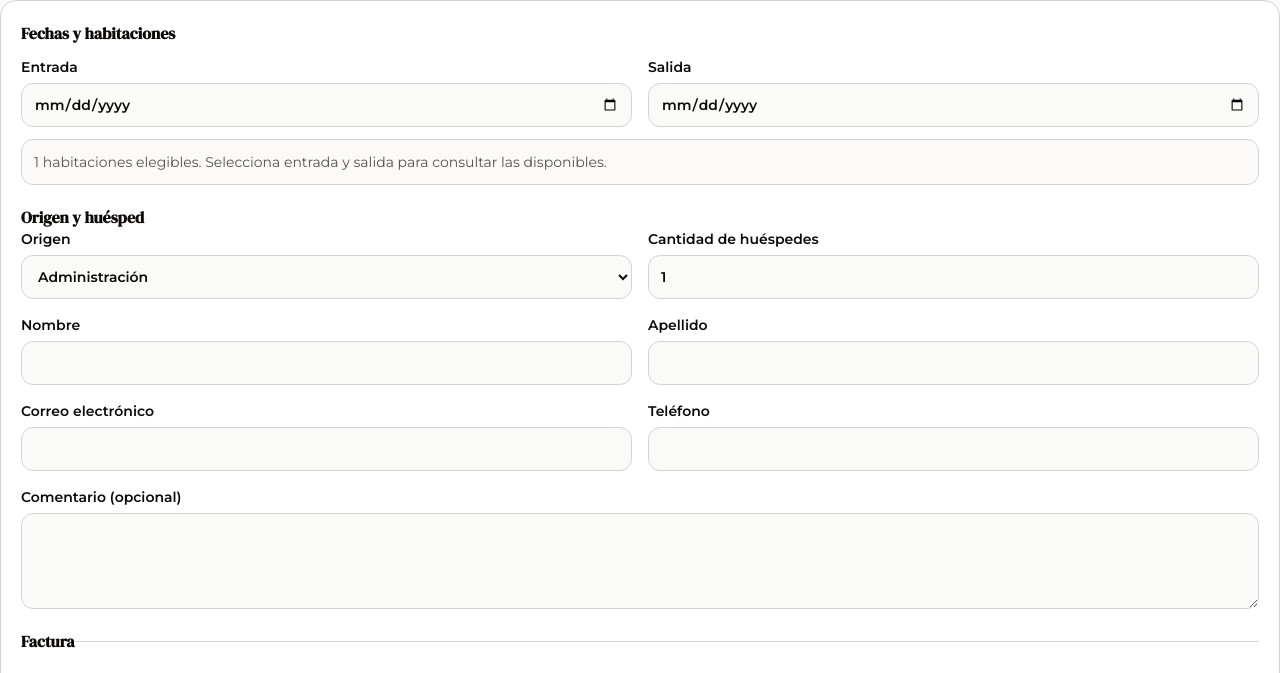
Scenario: nightly value for an external channel (task 7.1) › shows the field only for an origin that admits a hand-set value
Step 1. Type "2033-02-10" into the date field labelled "Entrada" → (326, 105), box [21,83,632,127]
Step 2. Type "2033-02-12" into the date field labelled "Salida" → (954, 105), box [648,83,1259,127]
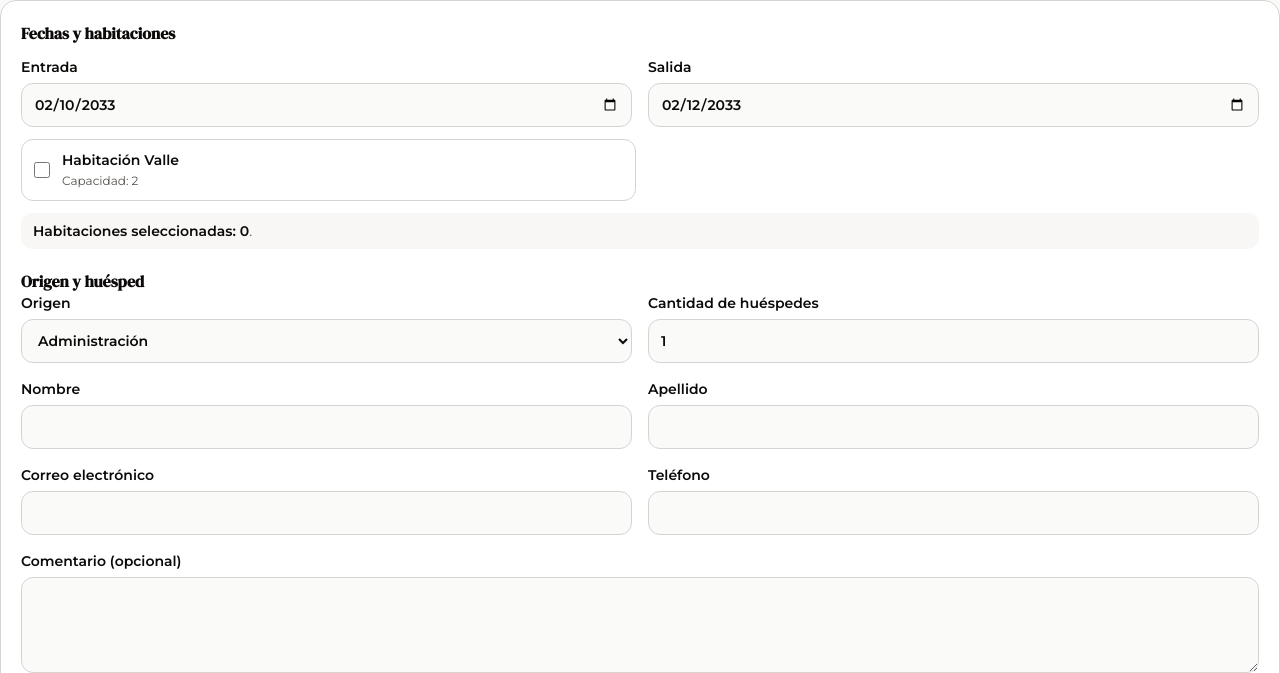
Expected: the checkbox labelled "Habitación Valle Capacidad: 2" is shown
Step 3. Click the checkbox labelled "Habitación Valle Capacidad: 2" → (42, 170), box [34,162,50,178]
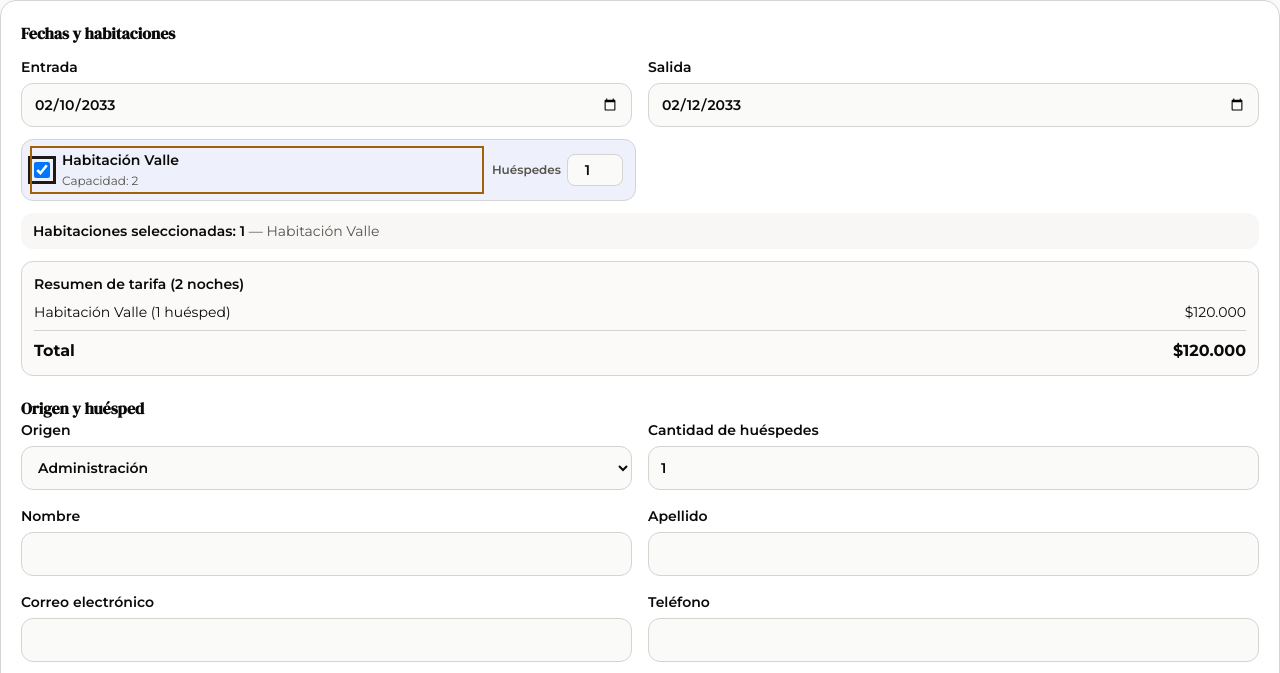
Expected: the field labelled "valor por noche acordado" is not shown
Step 4. Select "Booking.com" in the dropdown labelled "Origen" → (326, 468), box [21,446,632,490]
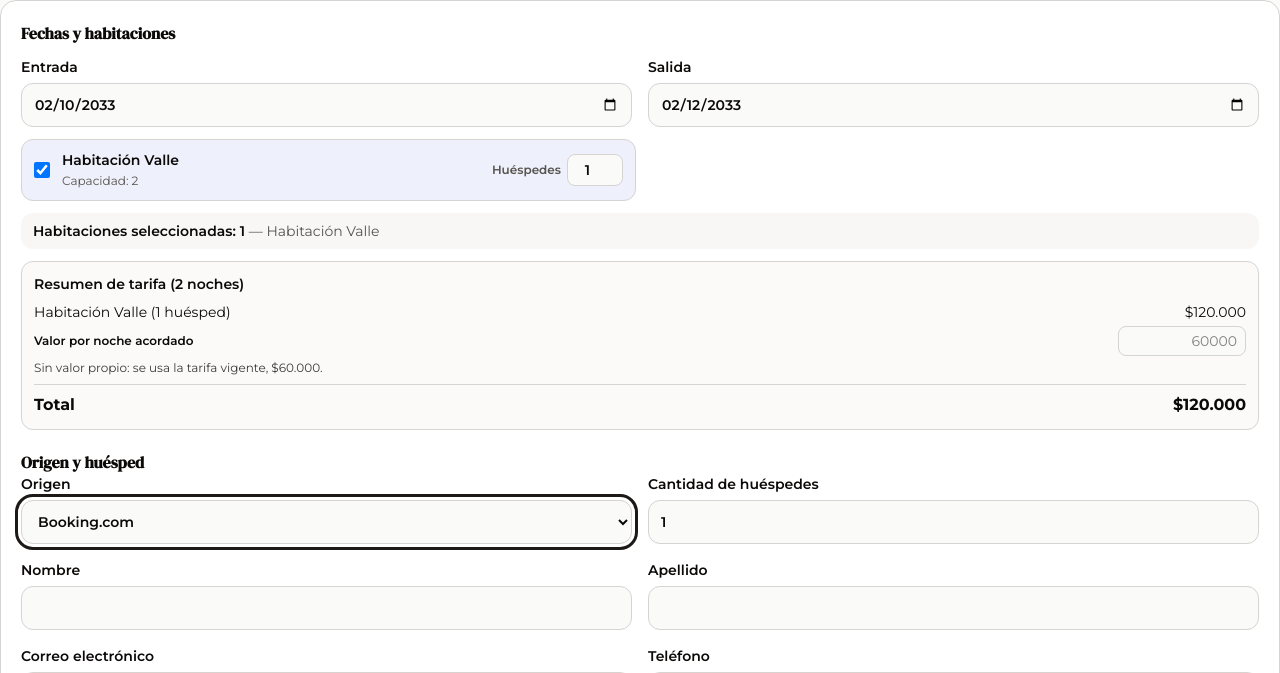
Step 5. Select "Airbnb" in the dropdown labelled "Origen" → (326, 522), box [21,500,632,544]
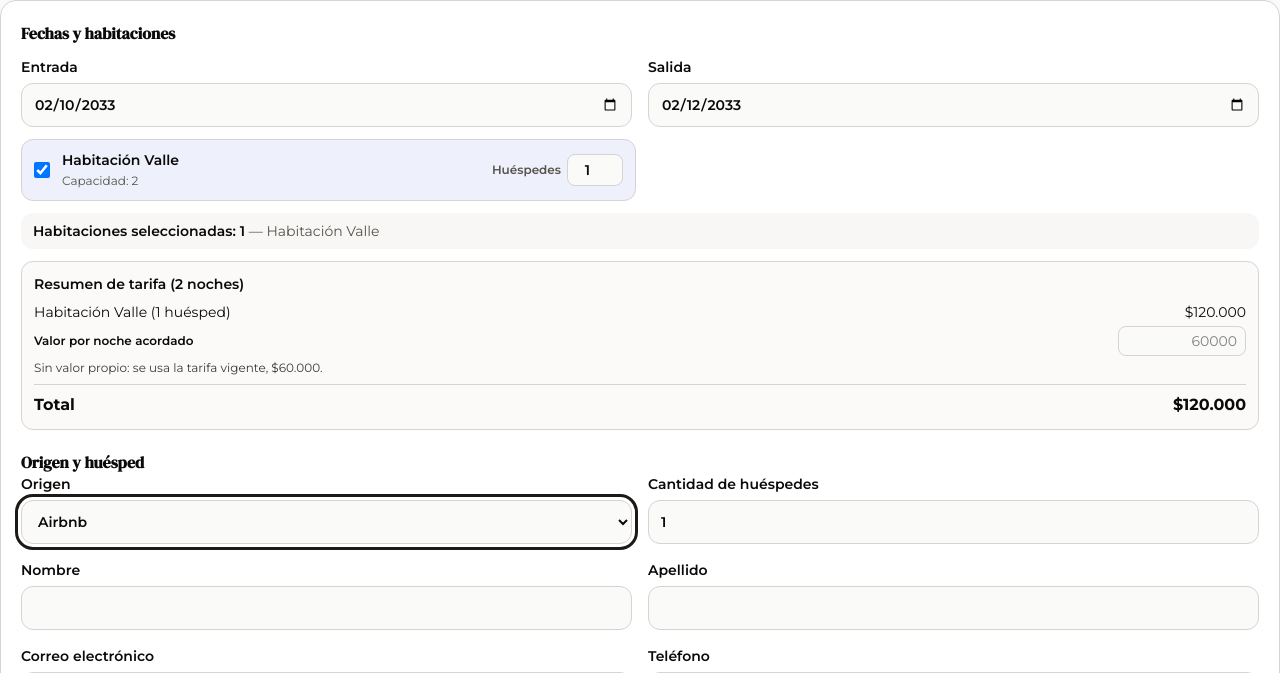
Expected: the field labelled "Valor por noche acordado" is shown, [1118,326,1246,356]
Step 6. Select "WhatsApp" in the dropdown labelled "Origen" → (326, 522), box [21,500,632,544]
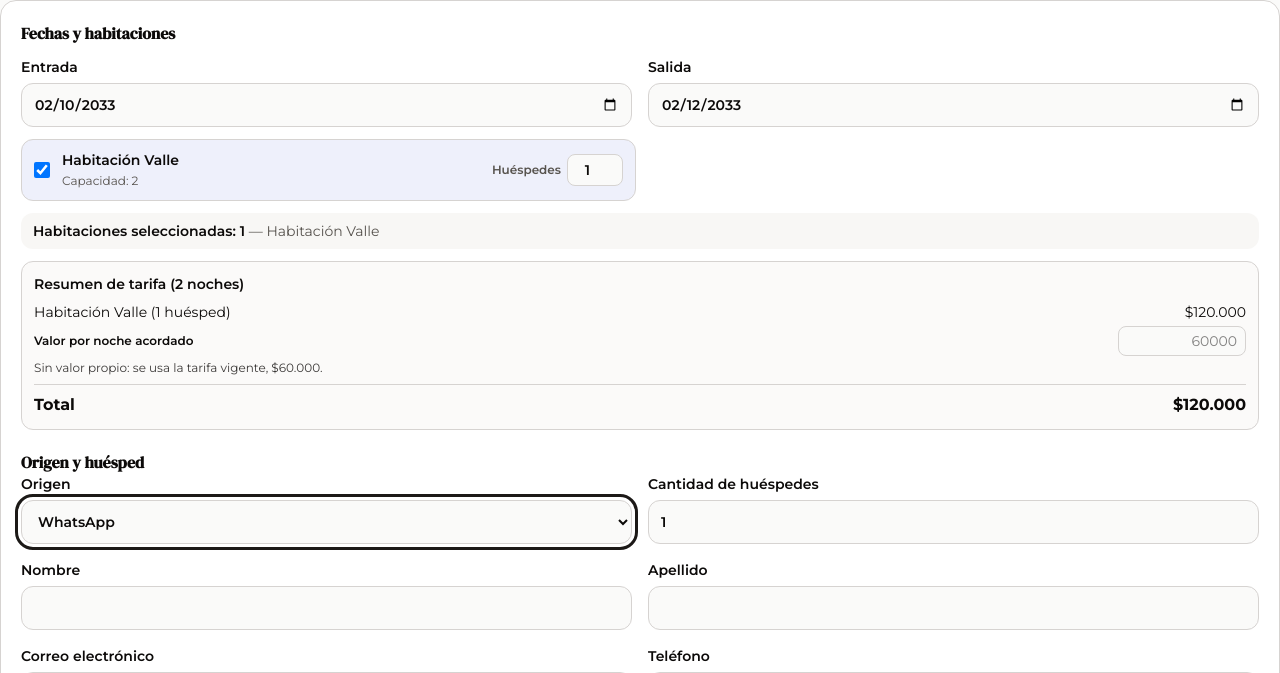
Step 7. Select "Teléfono" in the dropdown labelled "Origen" → (326, 522), box [21,500,632,544]
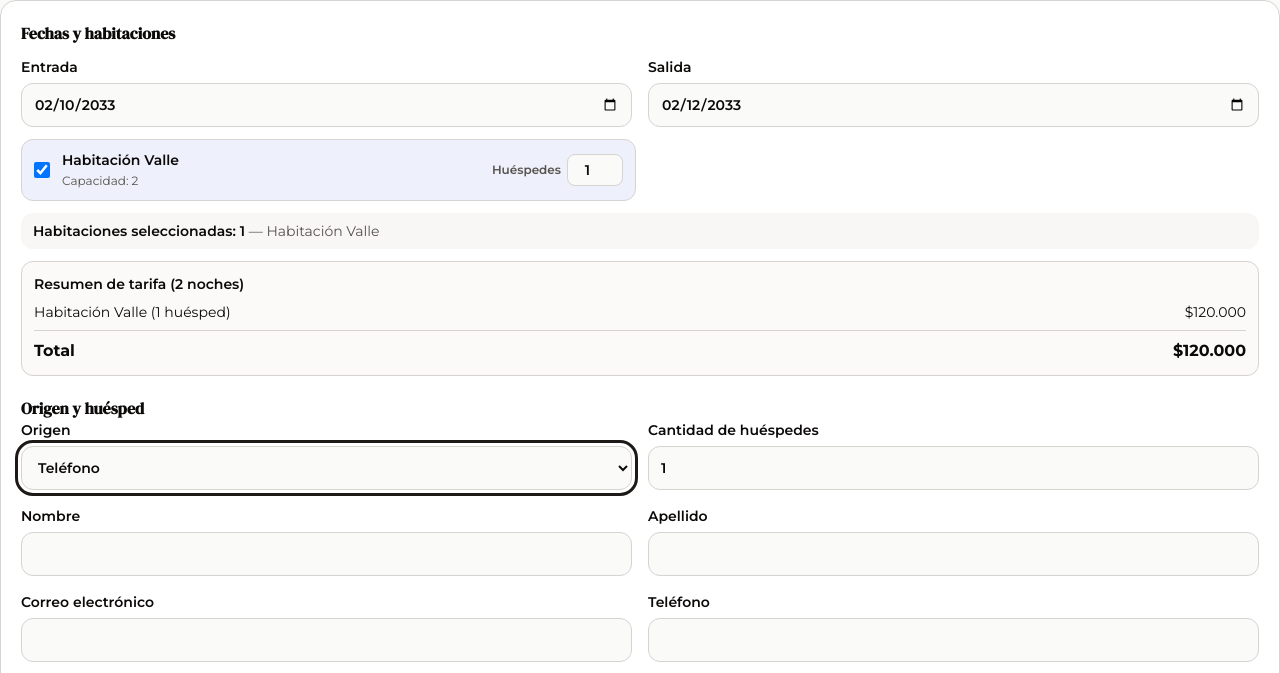
Expected: the text labelled "Valor por noche acordado" is gone
